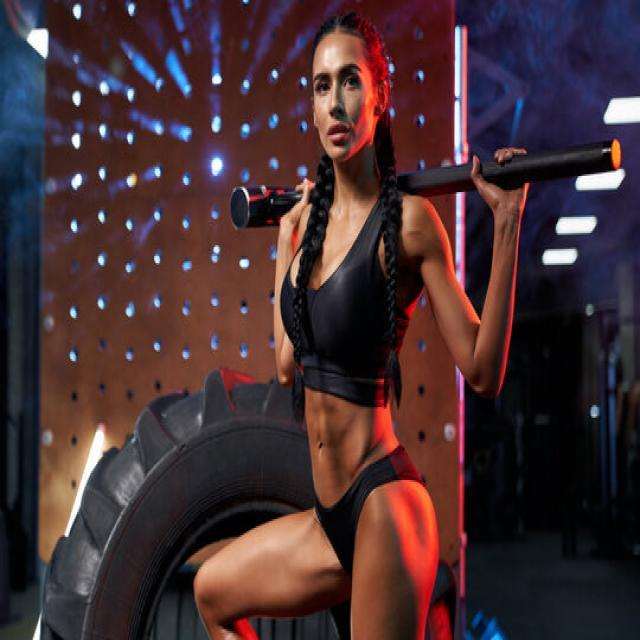hammer: (210, 132, 626, 242)
